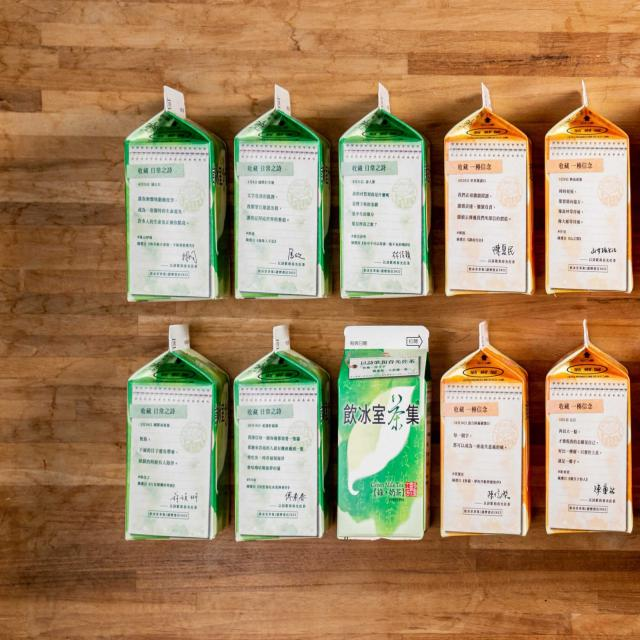non_white_jug: (324, 310, 434, 558), (224, 82, 334, 328), (110, 89, 224, 321), (433, 75, 539, 322), (220, 319, 330, 548), (111, 330, 227, 546), (536, 70, 634, 315), (428, 331, 538, 540), (538, 318, 640, 542), (337, 93, 434, 307)
